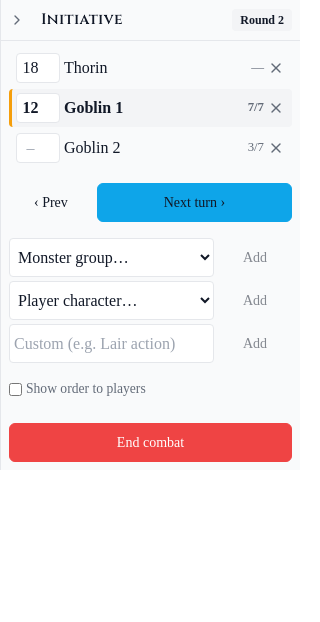
Test case: InitiativeTracker › HP panel (MIMIR-T-0678) › sets temporary HP
Click the button with class "entry-name" showing "Goblin 2": {"x": 154, "y": 148} [64, 136, 244, 160]
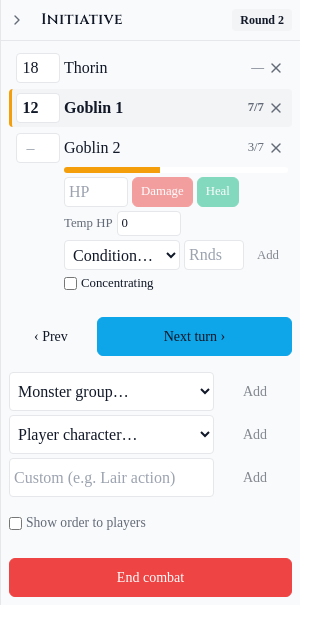
Replace the text in the number field with test id "temp-hp" showing "Temp HP" with "5": {"x": 148, "y": 224} [116, 211, 180, 236]
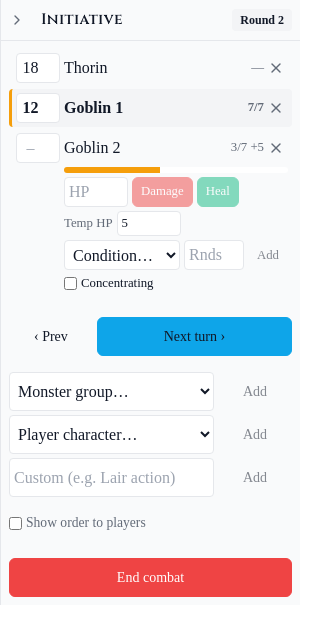
Expected: the text with class "entry-hp" reads "3/7 +5", [231, 140, 264, 154]
